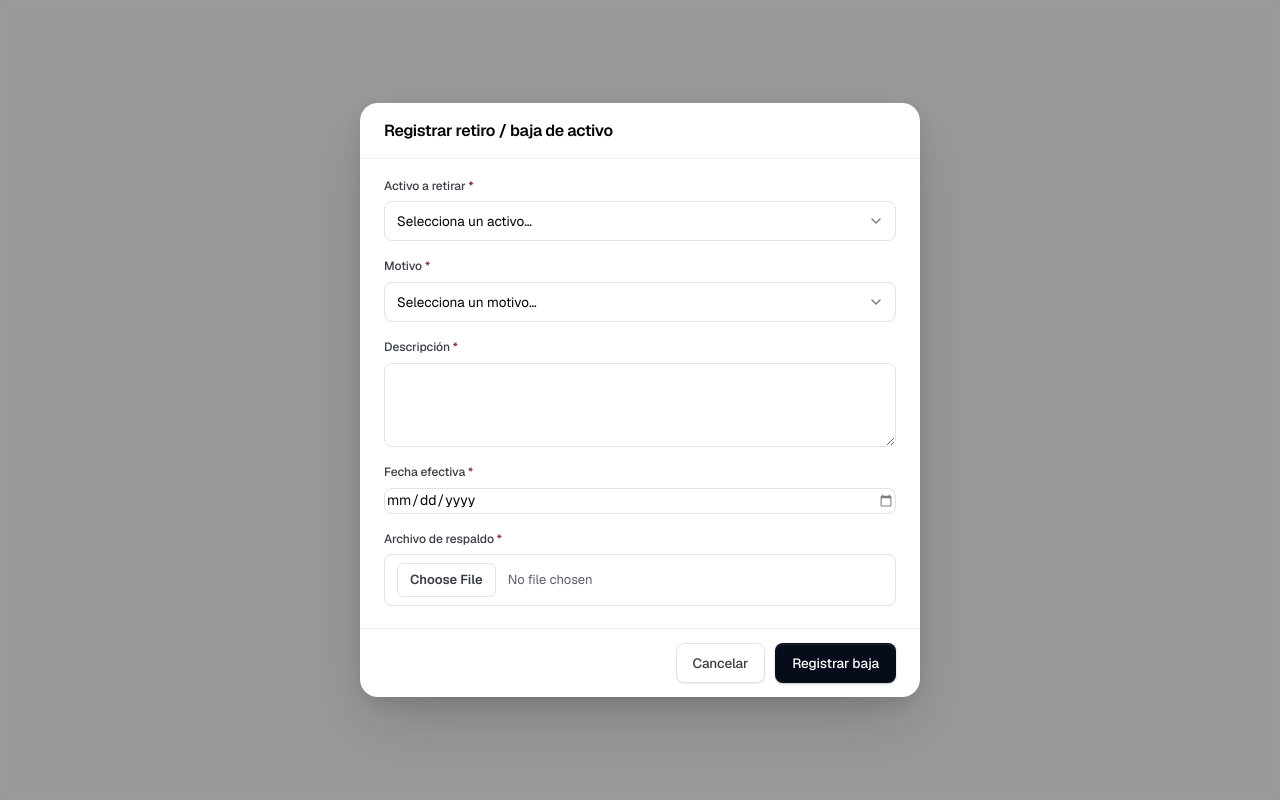
Test: RetiroModal › shows validation errors and does not submit when required fields are blank
The width and height of the screenshot is (1280, 800).
What coordinates should you click on to do the following:
click the button "Registrar baja"
I would click on:
 (836, 663)
Its box is [775, 643, 896, 683].
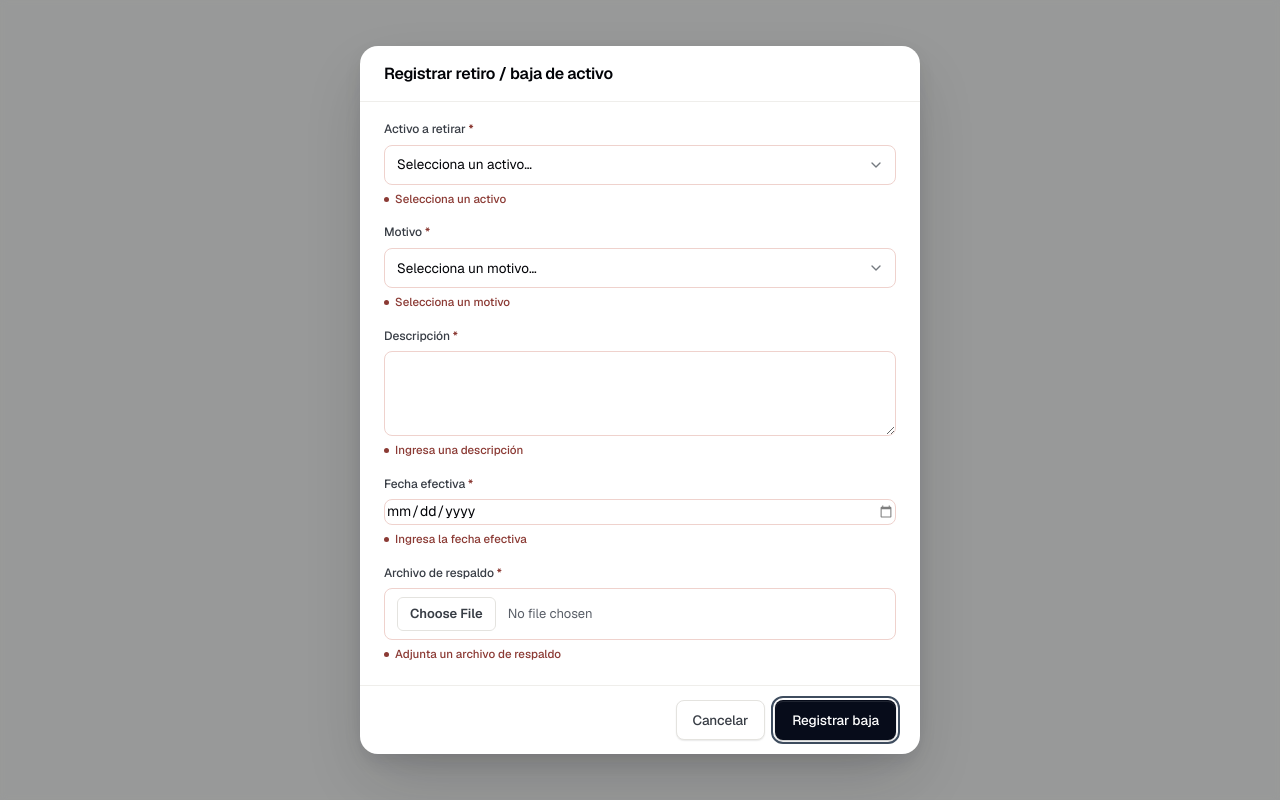
Expected: the text "Selecciona un activo" is shown, [395, 191, 506, 206]
Expected: the text "Ingresa la fecha efectiva" is shown, [395, 531, 527, 546]
Expected: the text "Adjunta un archivo de respaldo" is shown, [395, 646, 561, 661]
